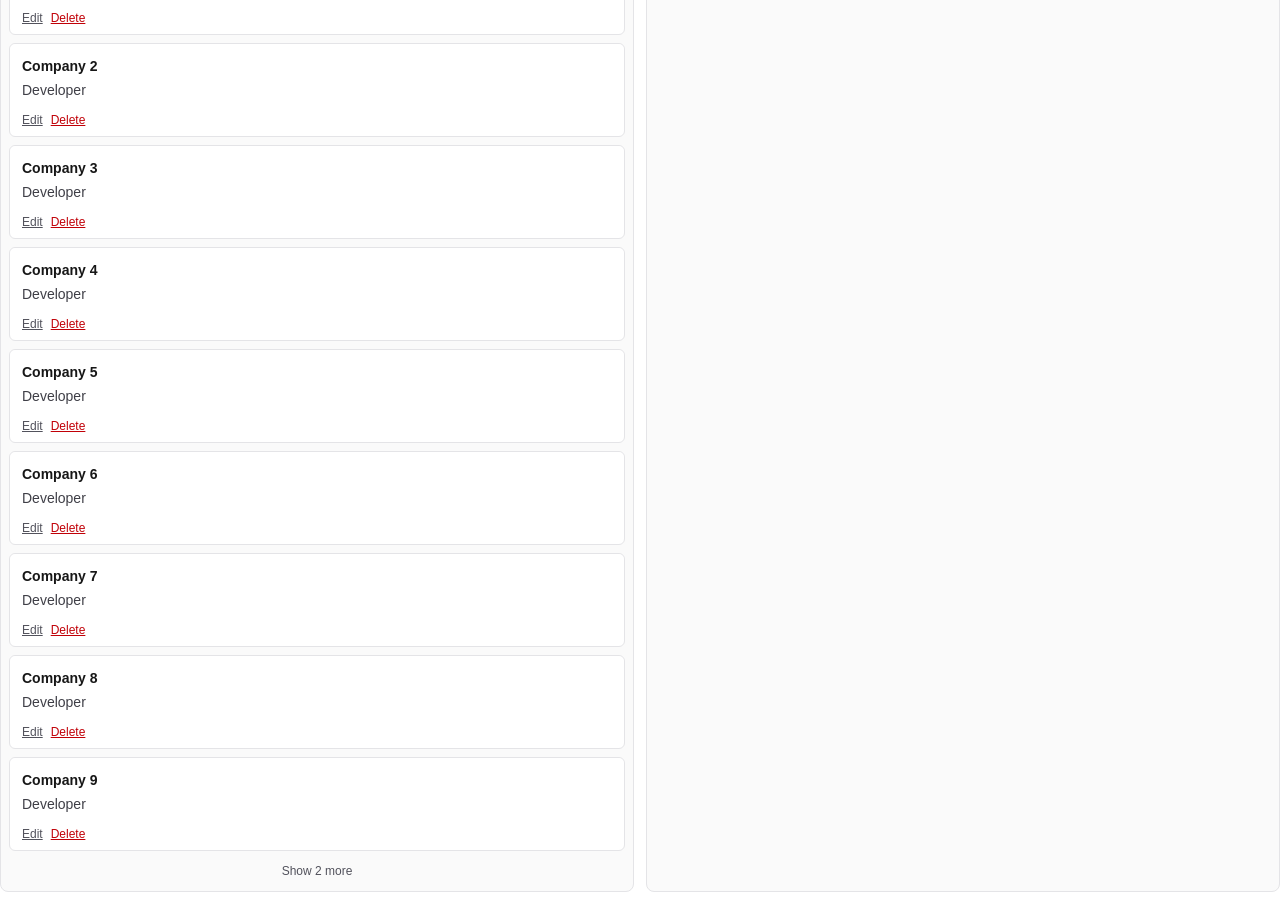
Board columns › shows the rest after clicking Show more
(page scrolled)
Click the button "Show 2 more". click: (317, 871)
box: [9,859,625,883]
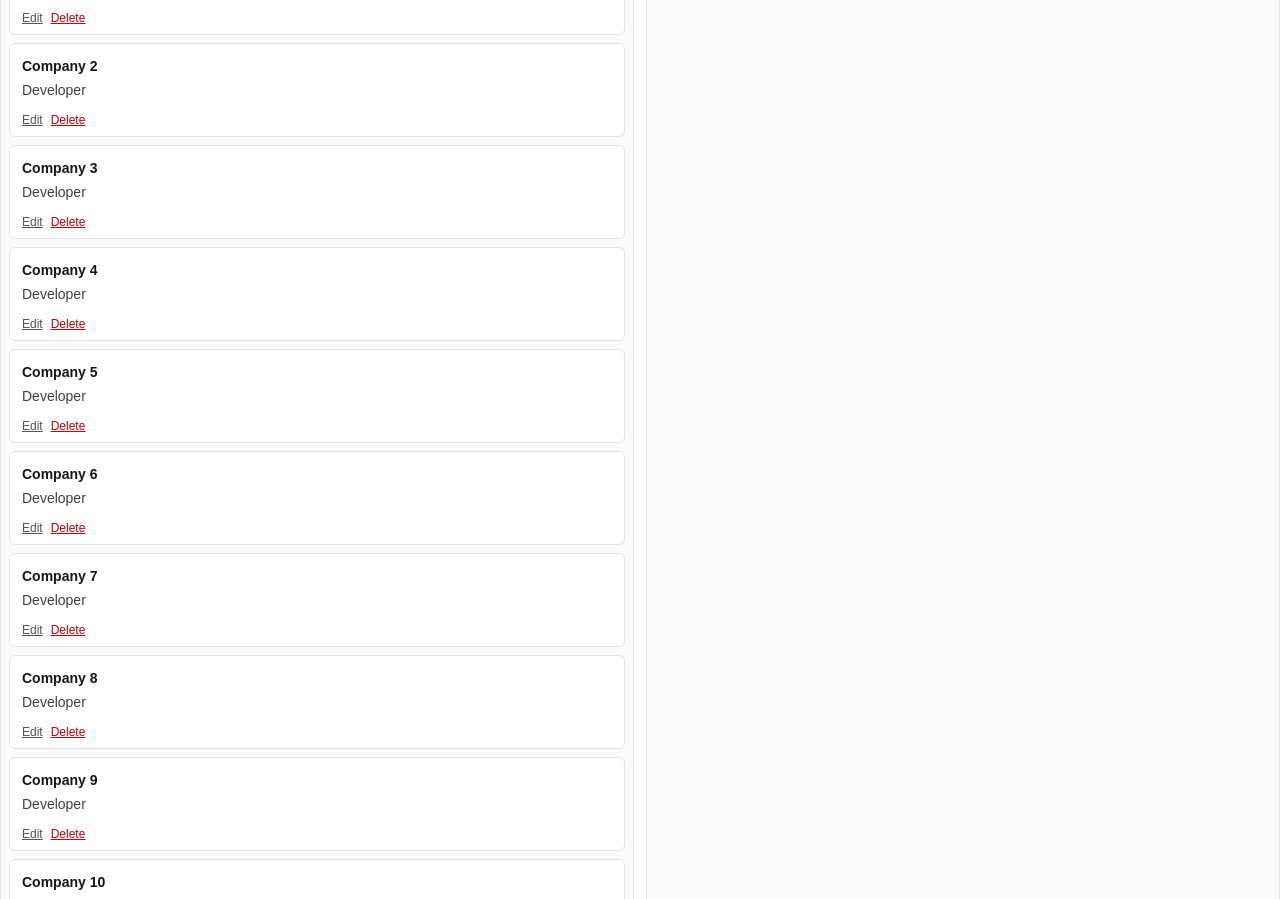
Check: the button "Show" is gone
